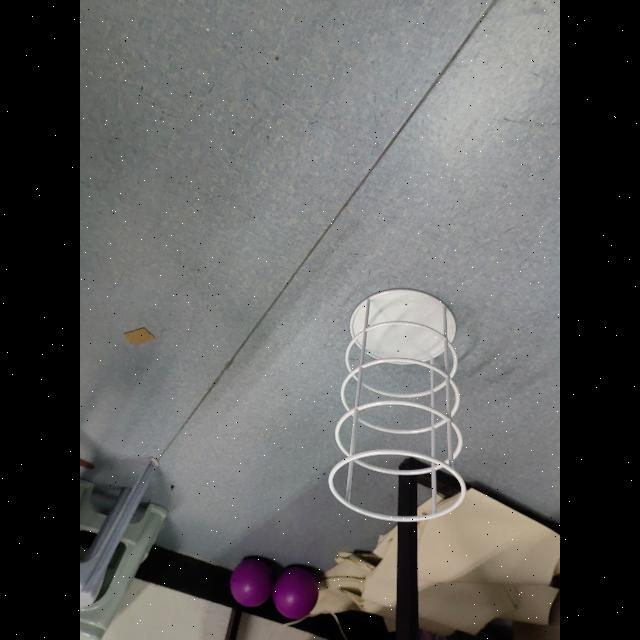S: (323, 283, 473, 529)
